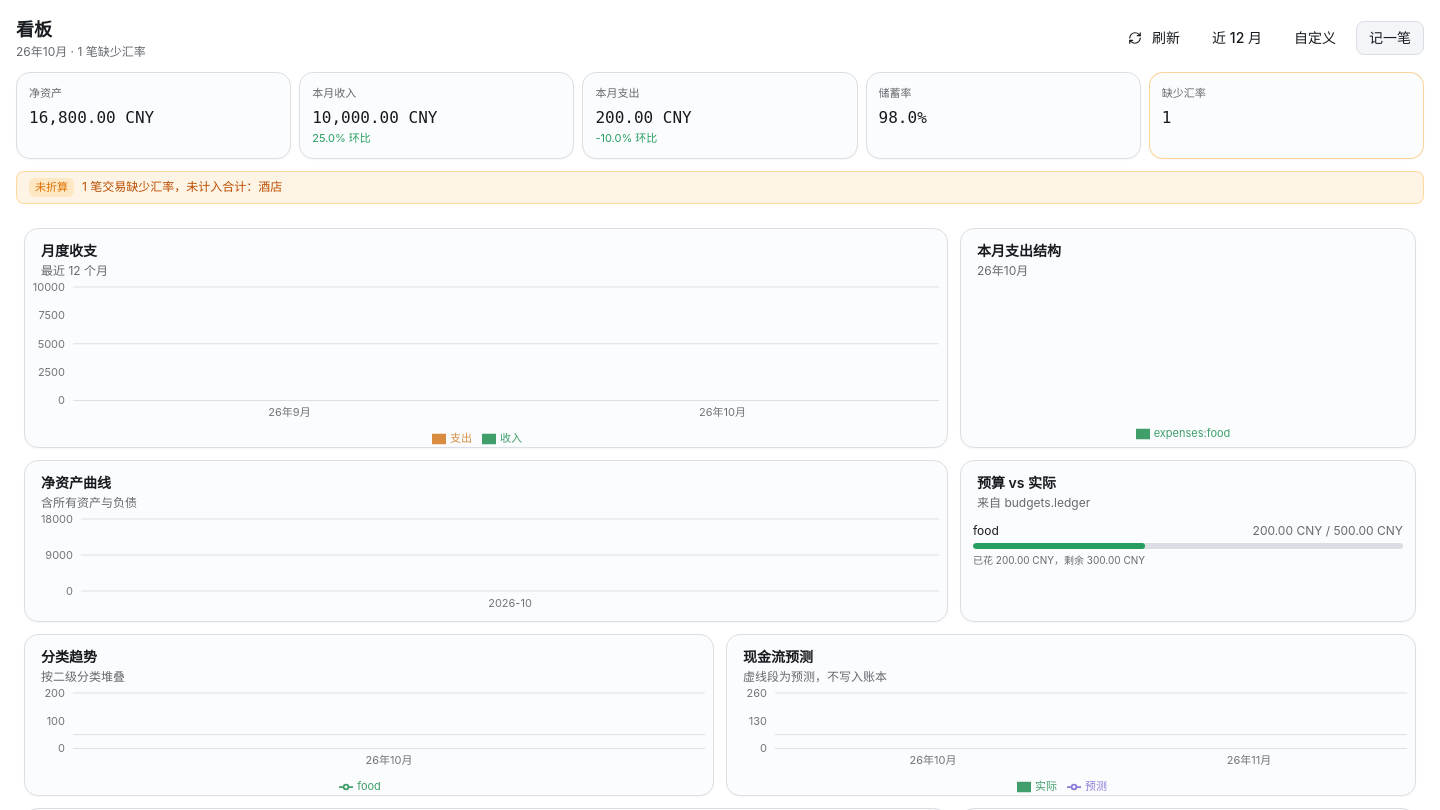
Test: Dashboard › re-reads the ledger from the refresh button
Expected: the text "16,800.00 CNY" is shown, [29, 108, 154, 126]
Click the button with aria-label "刷新账本" at (1154, 38), box [1116, 22, 1192, 54]
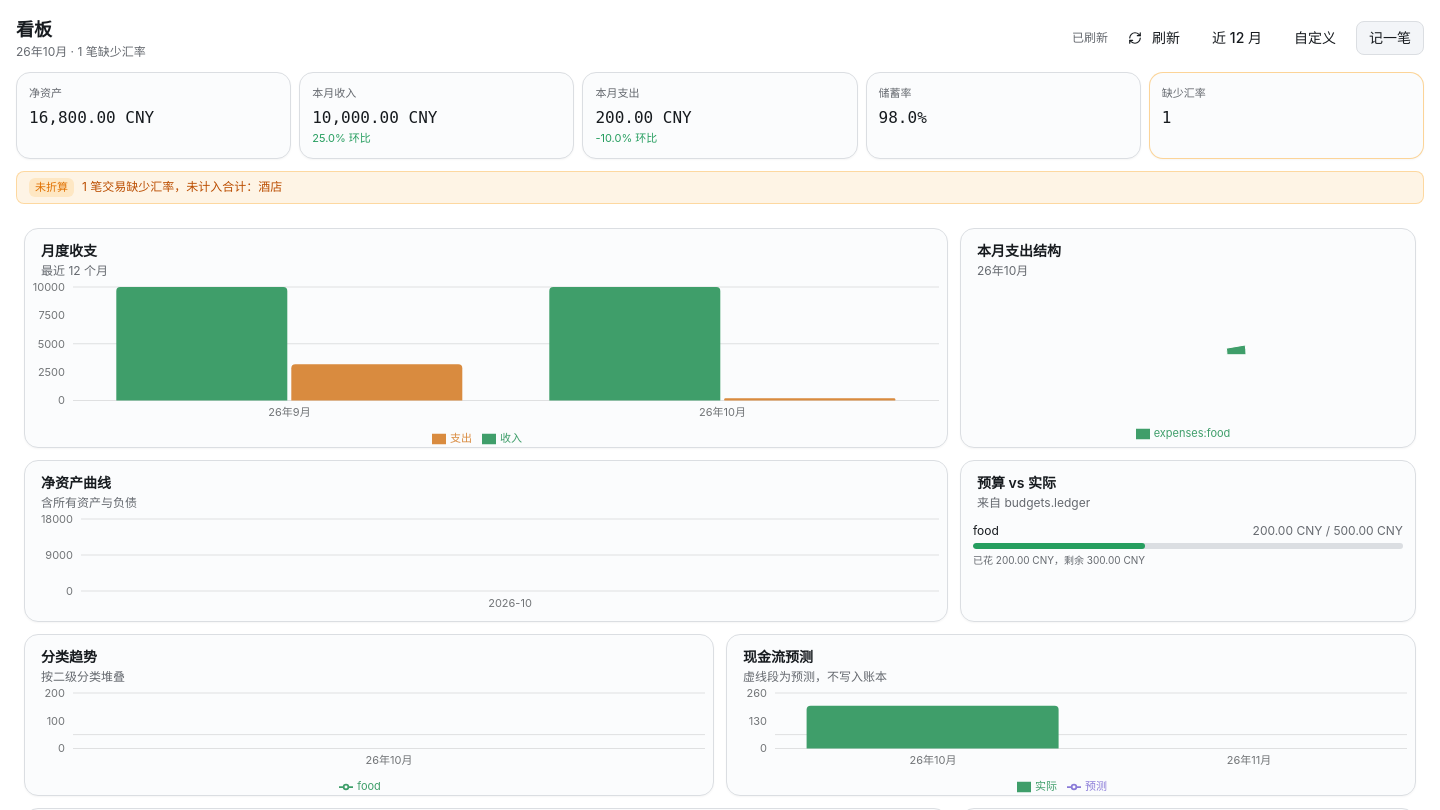
Result: the text "已刷新" is shown at [1072, 30, 1108, 46]
